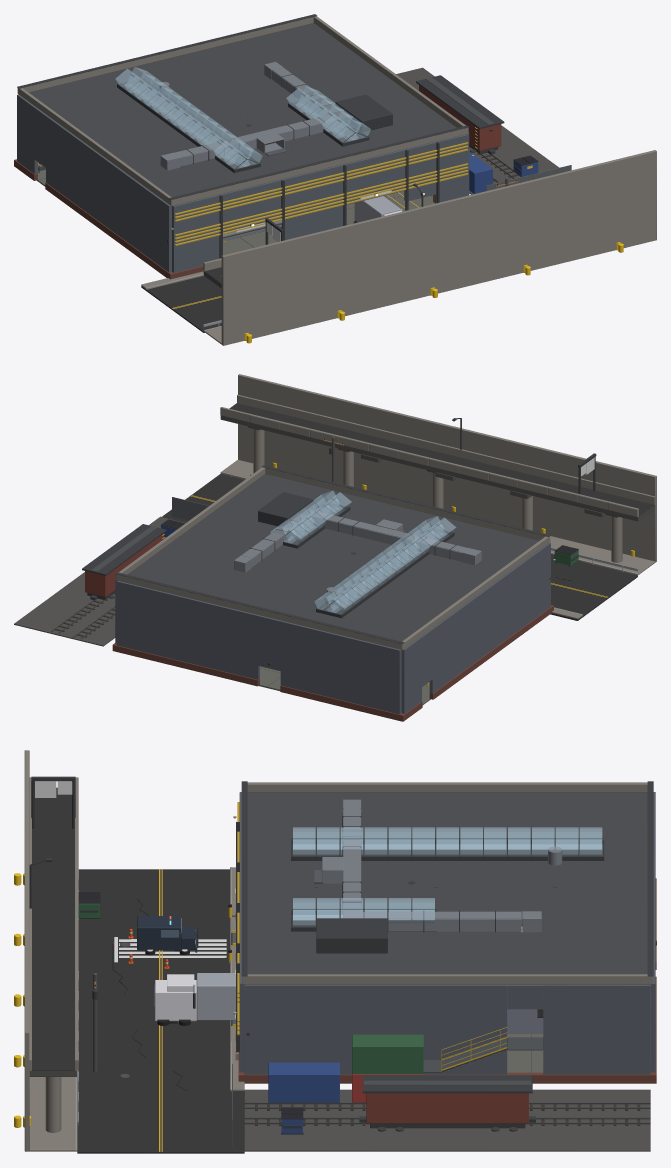
Rendered from hd_assault.glb.
3 views of the same model, one above another, from view 1: azimuth 30°, elevation 25°; view 2: azimuth 150°, elevation 25°; view 3: azimuth 270°, elevation 25° (orthographic). The views are drawn at different scales.
Parts seen in each view (by area): view 1: Batch_02_Highway_Overpass_Mat_Assault_Concrete, Batch_01_Architecture_Mat_Assault_Warehouse_Roof, Batch_01_Architecture_Mat_Assault_Warehouse_Wall, Batch_01_Architecture_Mat_Assault_Concrete, Batch_01_Architecture_Mat_Assault_Warehouse_Wall_Stripe_NonC, Batch_06_Ventilation_System_Mat_Assault_Vent_Duct, Batch_01_Architecture_Mat_Assault_Steel_Dark_NonCol, Street_Asphalt, Batch_01_Architecture_Mat_Assault_Steel_Dark, Rail_Yard_Ballast, Warehouse_Ground_Slab, Batch_03_Rail_Yard_Mat_Assault_Steel_Dark (+5 smaller); view 2: Batch_01_Architecture_Mat_Assault_Warehouse_Roof, Batch_02_Highway_Overpass_Mat_Assault_Concrete, Batch_01_Architecture_Mat_Assault_Warehouse_Wall, Batch_01_Architecture_Mat_Assault_Concrete, Street_Asphalt, Batch_06_Ventilation_System_Mat_Assault_Vent_Duct, Rail_Yard_Ballast, Overpass_Asphalt, Batch_01_Architecture_Mat_Assault_Brick_Base, Batch_01_Architecture_Mat_Assault_Steel_Dark_NonCol, Batch_02_Highway_Overpass_Mat_Assault_Concrete_Dark, Batch_03_Rail_Yard_Mat_Assault_Steel_Dark (+6 smaller); view 3: Batch_01_Architecture_Mat_Assault_Warehouse_Roof, Street_Asphalt, Batch_01_Architecture_Mat_Assault_Warehouse_Wall, Rail_Yard_Ballast, Batch_01_Architecture_Mat_Assault_Concrete, Overpass_Asphalt, Batch_06_Ventilation_System_Mat_Assault_Vent_Duct, Batch_01_Architecture_Mat_Assault_Steel_Dark_NonCol, Boxcar_Body, Batch_02_Highway_Overpass_Mat_Assault_Concrete, Batch_03_Rail_Yard_Mat_Assault_Steel_Dark, Batch_03_Rail_Yard_Mat_Assault_Container_Blue (+18 smaller).
Boxes of the visible parts, bbox=[...] form: Batch_02_Highway_Overpass_Mat_Assault_Concrete: bbox=[203, 150, 656, 345]; Batch_01_Architecture_Mat_Assault_Warehouse_Roof: bbox=[29, 23, 456, 197]; Batch_01_Architecture_Mat_Assault_Warehouse_Wall: bbox=[17, 94, 469, 272]; Batch_01_Architecture_Mat_Assault_Concrete: bbox=[17, 16, 468, 344]; Batch_01_Architecture_Mat_Assault_Warehouse_Wall_Stripe_NonC: bbox=[174, 142, 468, 245]; Batch_06_Ventilation_System_Mat_Assault_Vent_Duct: bbox=[160, 61, 349, 170]; Batch_01_Architecture_Mat_Assault_Steel_Dark_NonCol: bbox=[17, 14, 516, 258]; Street_Asphalt: bbox=[141, 276, 221, 332]; Batch_01_Architecture_Mat_Assault_Steel_Dark: bbox=[117, 78, 439, 258]; Rail_Yard_Ballast: bbox=[396, 67, 558, 194]; Warehouse_Ground_Slab: bbox=[36, 165, 434, 255]; Batch_03_Rail_Yard_Mat_Assault_Steel_Dark: bbox=[416, 75, 504, 153]; Batch_01_Architecture_Mat_Assault_Warehouse_Roof: bbox=[128, 474, 539, 641]; Batch_02_Highway_Overpass_Mat_Assault_Concrete: bbox=[220, 374, 656, 562]; Batch_01_Architecture_Mat_Assault_Warehouse_Wall: bbox=[115, 542, 550, 714]; Batch_01_Architecture_Mat_Assault_Concrete: bbox=[116, 415, 655, 649]; Street_Asphalt: bbox=[162, 474, 637, 620]; Batch_06_Ventilation_System_Mat_Assault_Vent_Duct: bbox=[234, 508, 481, 572]; Rail_Yard_Ballast: bbox=[14, 516, 185, 646]; Overpass_Asphalt: bbox=[229, 403, 654, 516]; Batch_01_Architecture_Mat_Assault_Brick_Base: bbox=[112, 605, 553, 721]; Batch_01_Architecture_Mat_Assault_Steel_Dark_NonCol: bbox=[115, 418, 596, 644]; Batch_02_Highway_Overpass_Mat_Assault_Concrete_Dark: bbox=[220, 403, 655, 521]; Batch_03_Rail_Yard_Mat_Assault_Steel_Dark: bbox=[82, 524, 166, 599]; Batch_01_Architecture_Mat_Assault_Warehouse_Roof: bbox=[247, 792, 647, 974]; Street_Asphalt: bbox=[77, 869, 244, 1153]; Batch_01_Architecture_Mat_Assault_Warehouse_Wall: bbox=[239, 792, 655, 1074]; Rail_Yard_Ballast: bbox=[244, 1089, 650, 1151]; Batch_01_Architecture_Mat_Assault_Concrete: bbox=[29, 782, 653, 1151]; Overpass_Asphalt: bbox=[32, 787, 74, 1070]; Batch_06_Ventilation_System_Mat_Assault_Vent_Duct: bbox=[322, 799, 541, 932]; Batch_01_Architecture_Mat_Assault_Steel_Dark_NonCol: bbox=[29, 776, 653, 1078]; Boxcar_Body: bbox=[366, 1093, 528, 1123]; Batch_02_Highway_Overpass_Mat_Assault_Concrete: bbox=[24, 750, 78, 1151]; Batch_03_Rail_Yard_Mat_Assault_Steel_Dark: bbox=[281, 1075, 532, 1134]; Batch_03_Rail_Yard_Mat_Assault_Container_Blue: bbox=[268, 1062, 339, 1133].
Size of what is drawn, in the model's own units: 168 by 39.76 by 161.
